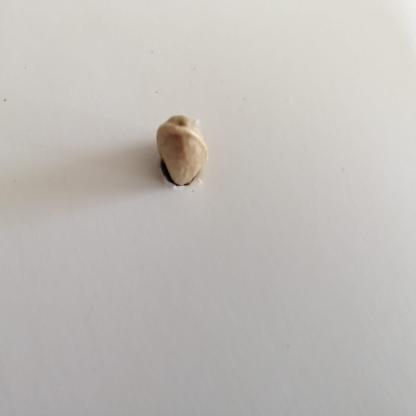pistachio: (153, 113, 209, 196)
